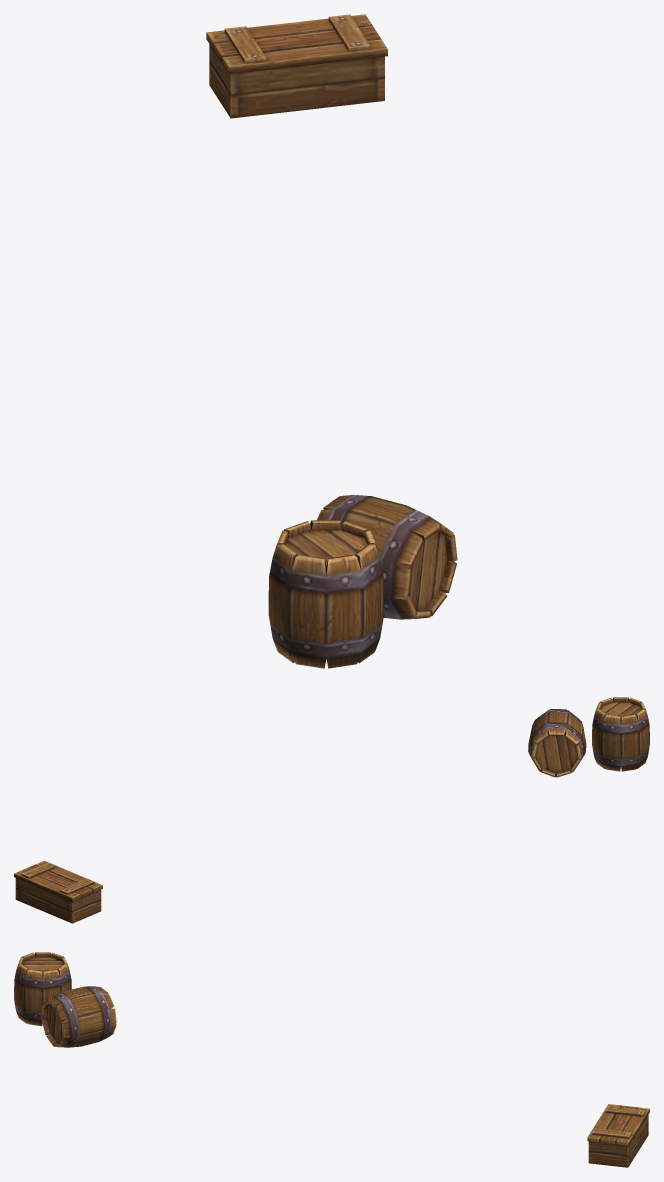
The model's file is Area_11_21.fbx.
3 renders of one model, top to bottom at view 1: azimuth 30°, elevation 25°; view 2: azimuth 150°, elevation 25°; view 3: azimuth 270°, elevation 25°, orthographic. The views are drawn at different scales.
Parts seen in each view (by area): view 1: Area_11_21; view 2: Area_11_21; view 3: Area_11_21.
Boxes of the visible parts, box(x1,y1,x2,y2) form: Area_11_21: box(206, 14, 457, 668); Area_11_21: box(14, 697, 649, 923); Area_11_21: box(14, 952, 649, 1167).
Bounding box in the file's own units: 821 × 140 × 1344.
